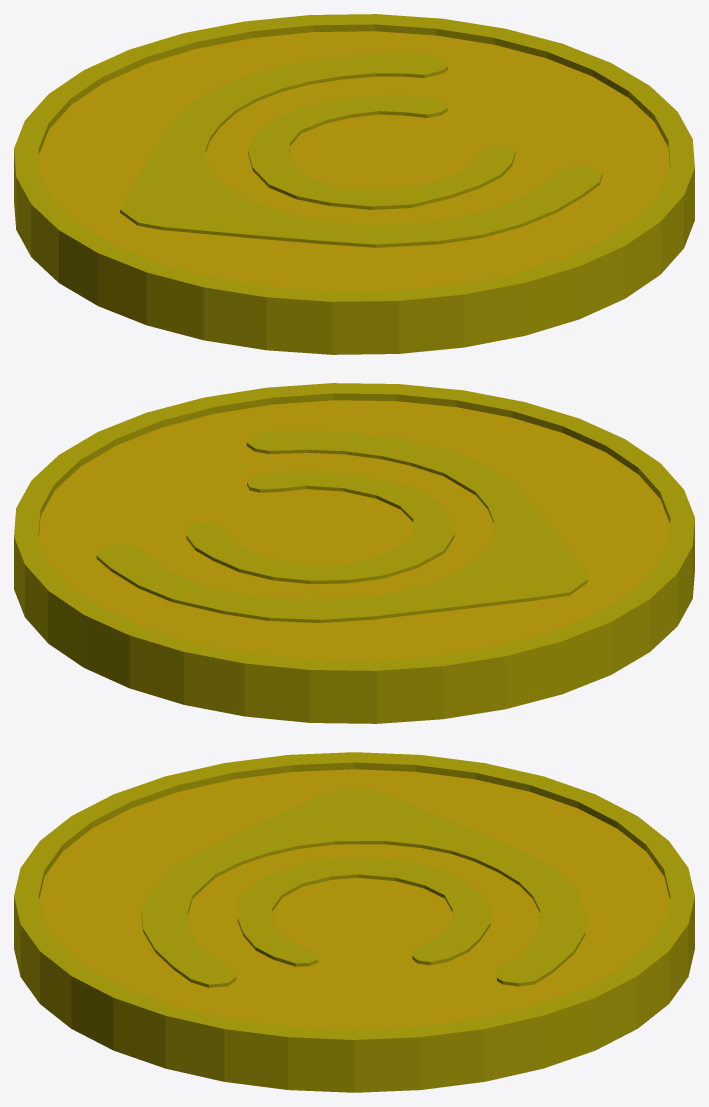
Rendered from CircreeCoin.fbx.
The picture shows the model from 3 angles, top to bottom: view 1: azimuth 30°, elevation 25°; view 2: azimuth 150°, elevation 25°; view 3: azimuth 270°, elevation 25°; orthographic projection.
Parts seen in each view (by area): view 1: Circle; view 2: Circle; view 3: Circle.
Part boxes in pixels (bbox=[...]): Circle: bbox=[14, 14, 694, 354]; Circle: bbox=[14, 383, 694, 723]; Circle: bbox=[14, 752, 694, 1092].
Size of the model in its own units: 200 by 17.14 by 200.
